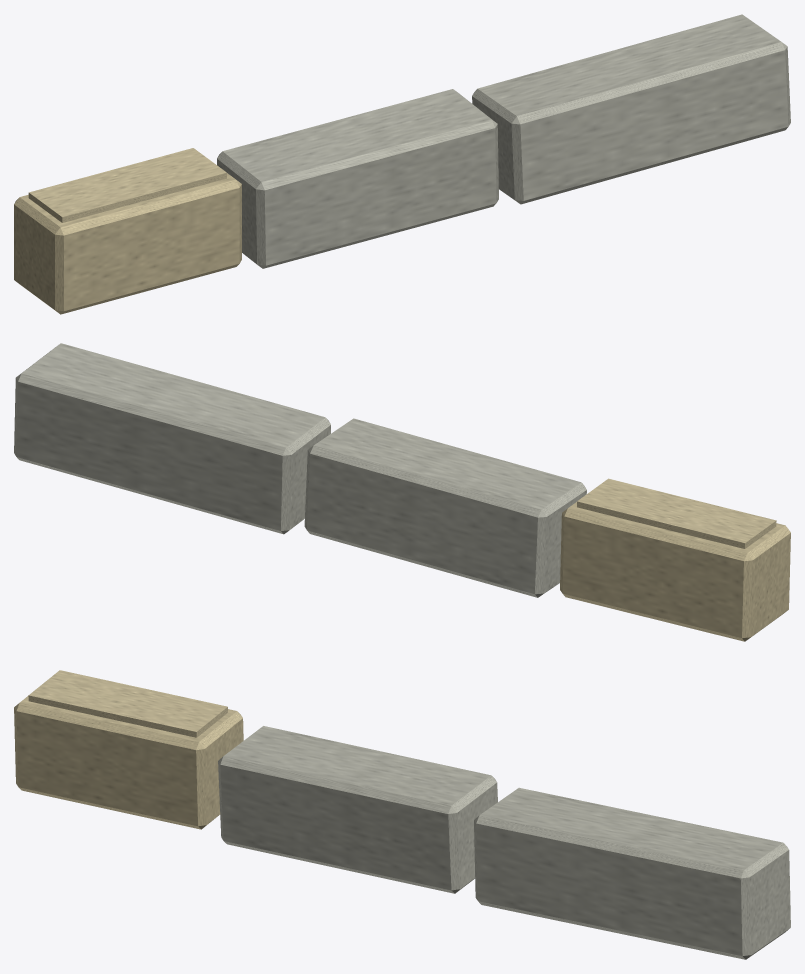
File: Bordure_Pierre_B.obj
3 views of the same model, one above another, from view 1: azimuth 30°, elevation 25°; view 2: azimuth 150°, elevation 25°; view 3: azimuth 330°, elevation 25° (orthographic).
Visible parts, largest first — view 1: Bordure_Pierre_B; view 2: Bordure_Pierre_B; view 3: Bordure_Pierre_B.
Boxes of the visible parts, x1,y1,x2,y2 form: Bordure_Pierre_B: (14,14,790,314); Bordure_Pierre_B: (14,343,790,641); Bordure_Pierre_B: (14,670,790,959).
Size of the model in its own units: 7.87 by 1.06 by 0.9032.
Materials: 1 (1 with a texture image).
